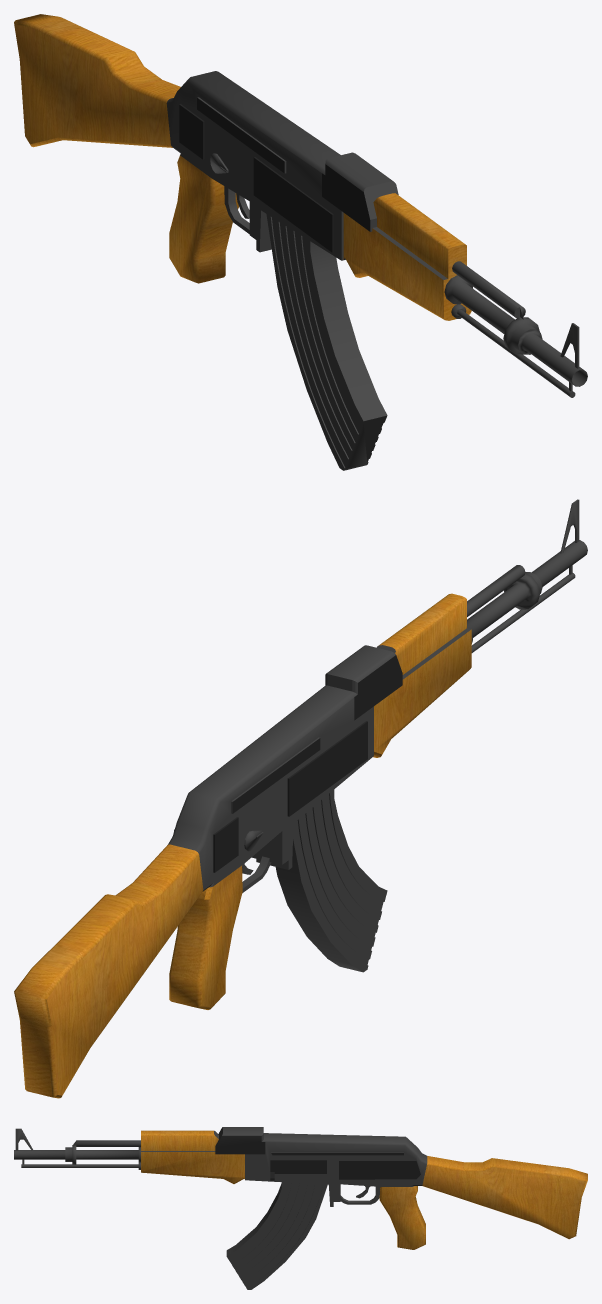
3 renders of one model, top to bottom at view 1: azimuth 30°, elevation 25°; view 2: azimuth 150°, elevation 25°; view 3: azimuth 270°, elevation 25°, orthographic. The views are drawn at different scales.
Parts seen in each view (by area): view 1: ak47_1; view 2: ak47_1; view 3: ak47_1.
Boxes of the visible parts, x1,y1,x2,y2 form: ak47_1: (14,14,587,470); ak47_1: (14,499,587,1098); ak47_1: (14,1127,587,1289).
Size of the model in its own units: 0.7037 by 3.53 by 11.6.
